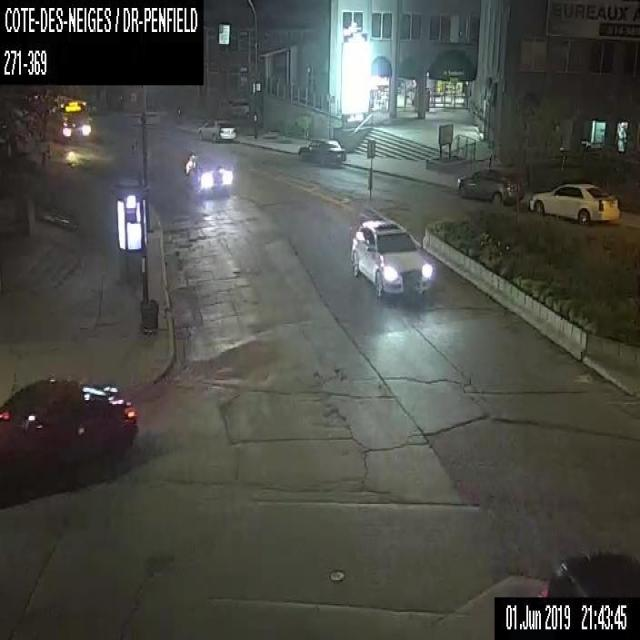bus: (38, 95, 92, 142)
vehicle: (0, 376, 137, 494), (348, 217, 434, 300), (537, 553, 639, 596), (528, 181, 619, 227), (456, 166, 524, 202), (184, 148, 232, 193), (298, 136, 347, 165), (194, 116, 237, 143), (224, 96, 250, 117)
